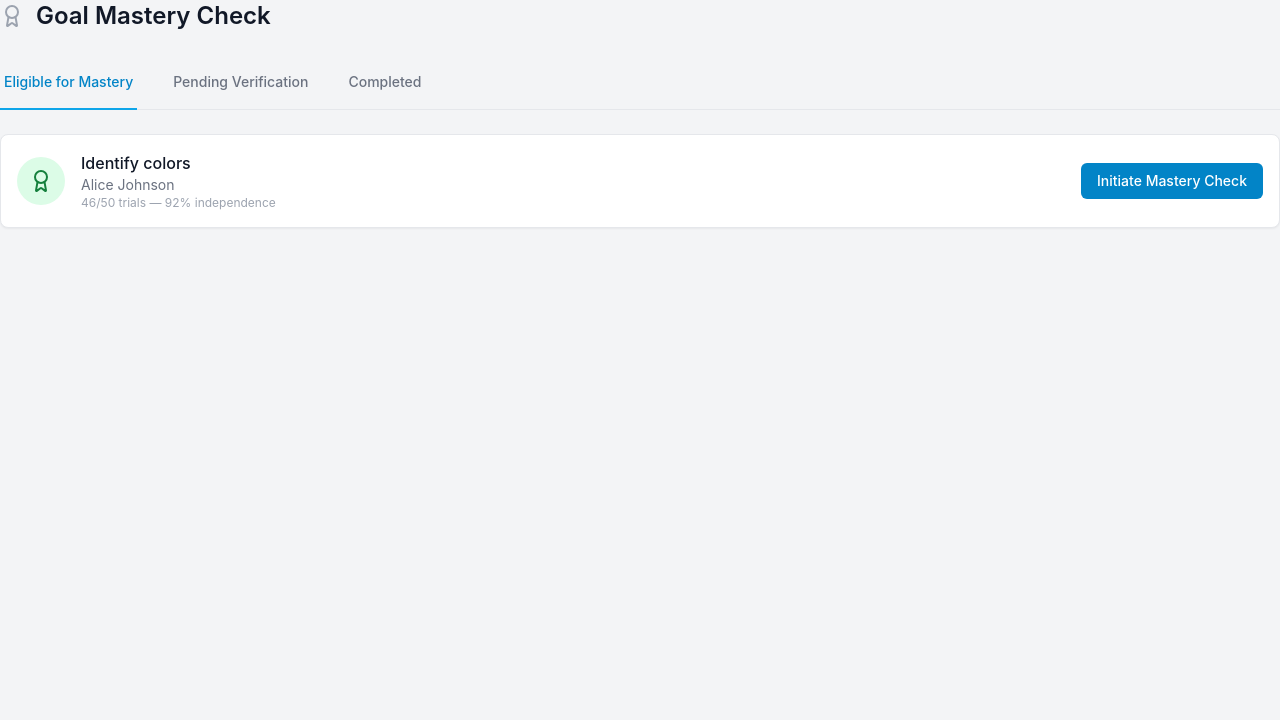
Test: MasteryCheckPage › opens mastery check detail modal on review click
Check: the text "Identify colors" is shown, box x1=81 y1=153 x2=191 y2=173
Click the button "Pending Verification": {"x": 241, "y": 83} x1=169 y1=56 x2=312 y2=110
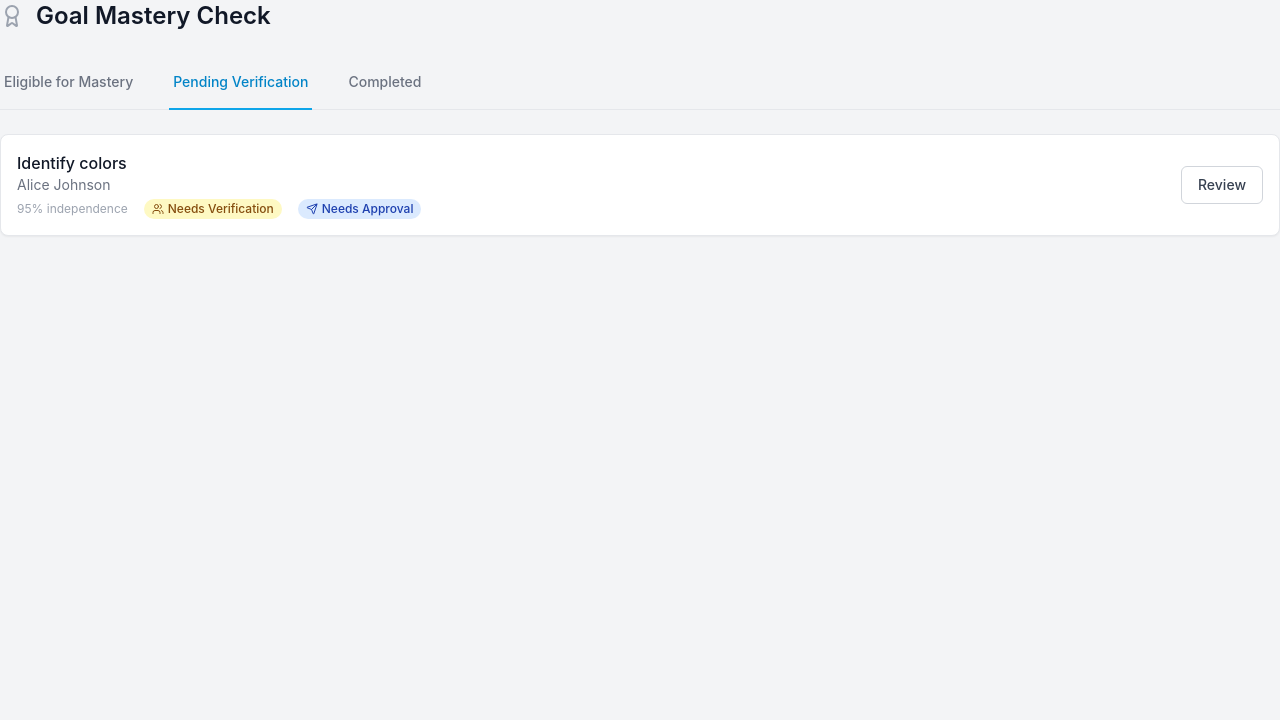
Check: the button "Review" is shown
Click the button "Review": {"x": 1222, "y": 185} x1=1181 y1=166 x2=1263 y2=204
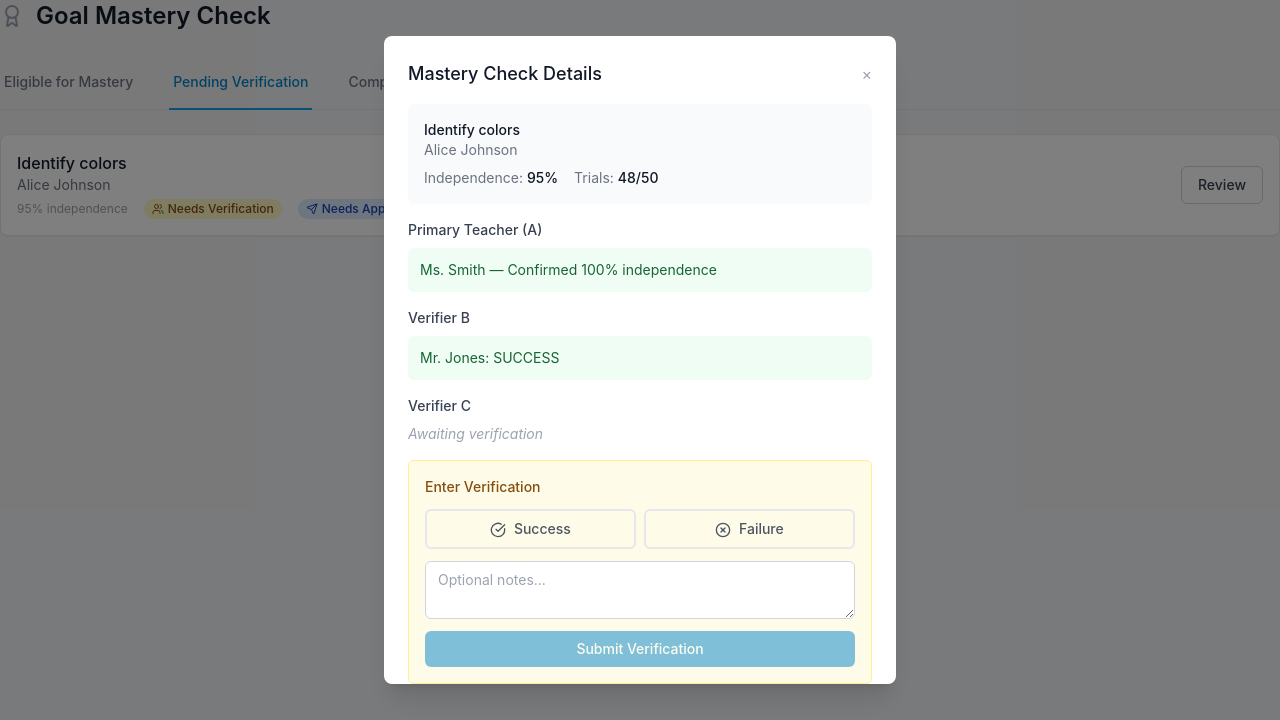
Check: the heading "Mastery Check Details" is shown, box x1=408 y1=63 x2=602 y2=84
